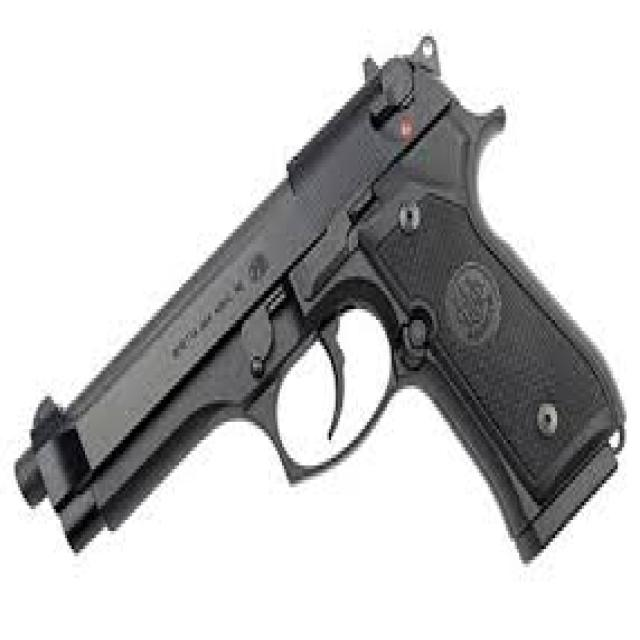pistol: (11, 26, 630, 572)
